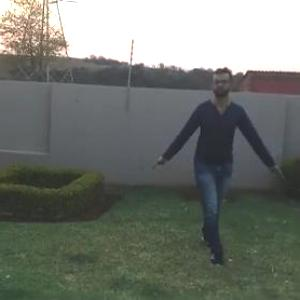land: (161, 59, 287, 271)
